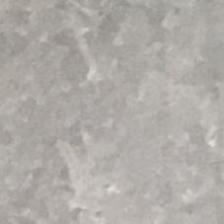Non_Crack: (17, 1, 224, 222)
